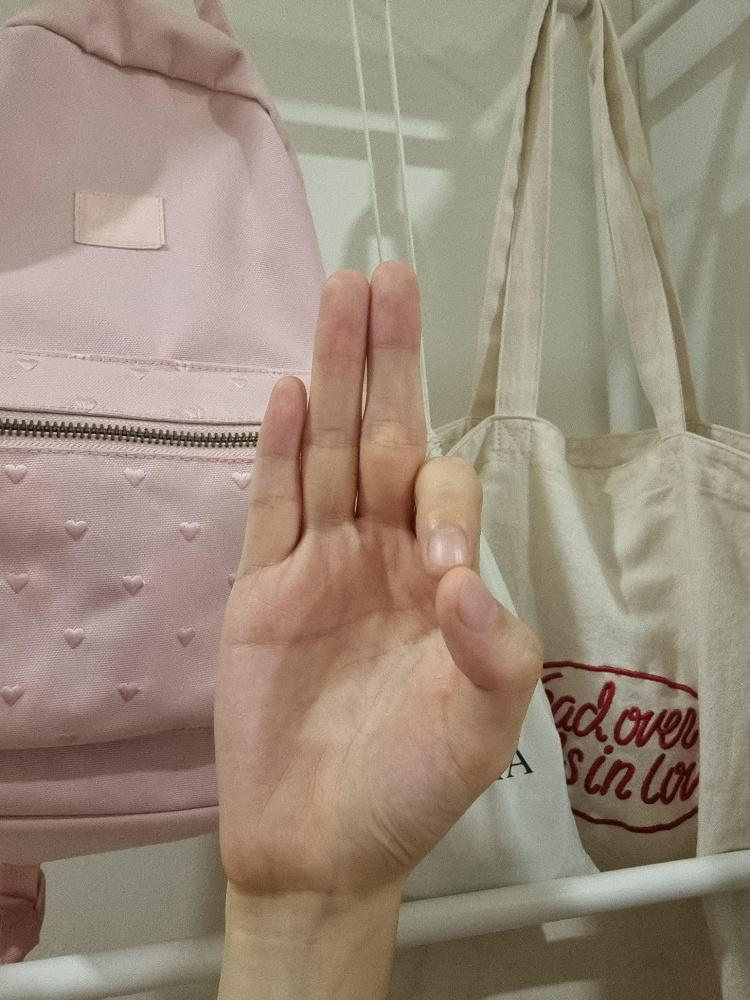f: (209, 255, 546, 890)
